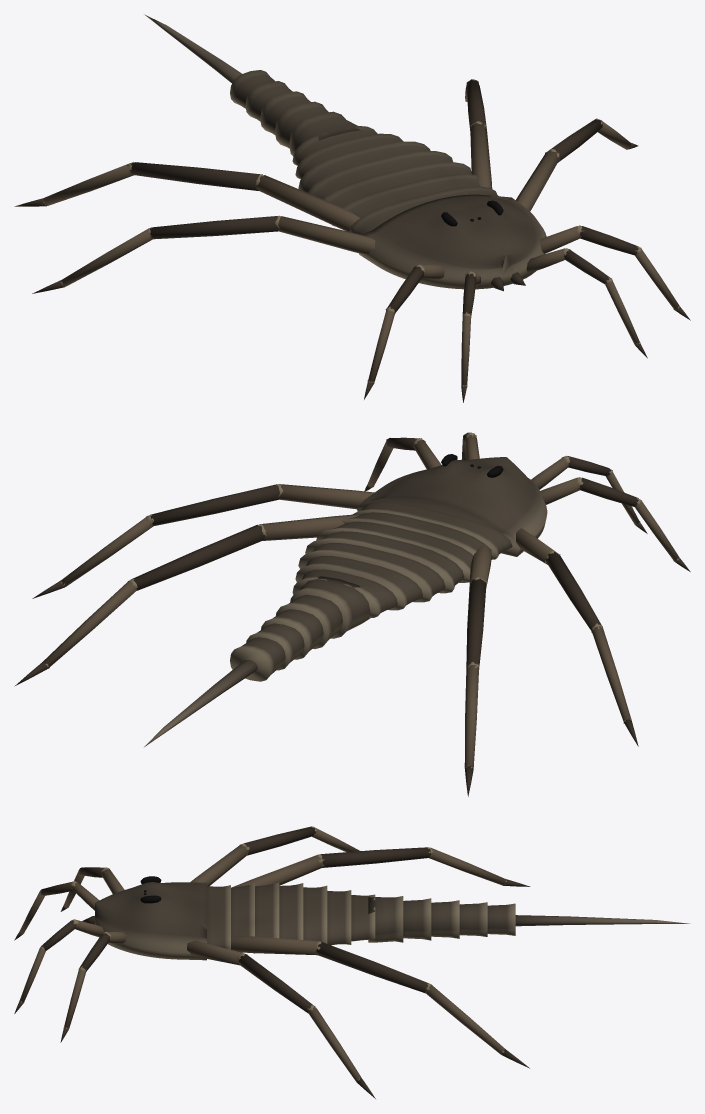
File: Stylonurus.fbx
3 renders of one model, top to bottom at view 1: azimuth 30°, elevation 25°; view 2: azimuth 150°, elevation 25°; view 3: azimuth 270°, elevation 25°, orthographic. The views are drawn at different scales.
Visible parts, largest first — view 1: Stylonurus; view 2: Stylonurus; view 3: Stylonurus.
Boxes of the visible parts, x1,y1,x2,y2 form: Stylonurus: [14, 14, 690, 402]; Stylonurus: [14, 432, 690, 796]; Stylonurus: [14, 826, 689, 1098].
Size of the model in its own units: 1.64 by 0.2873 by 1.93.
